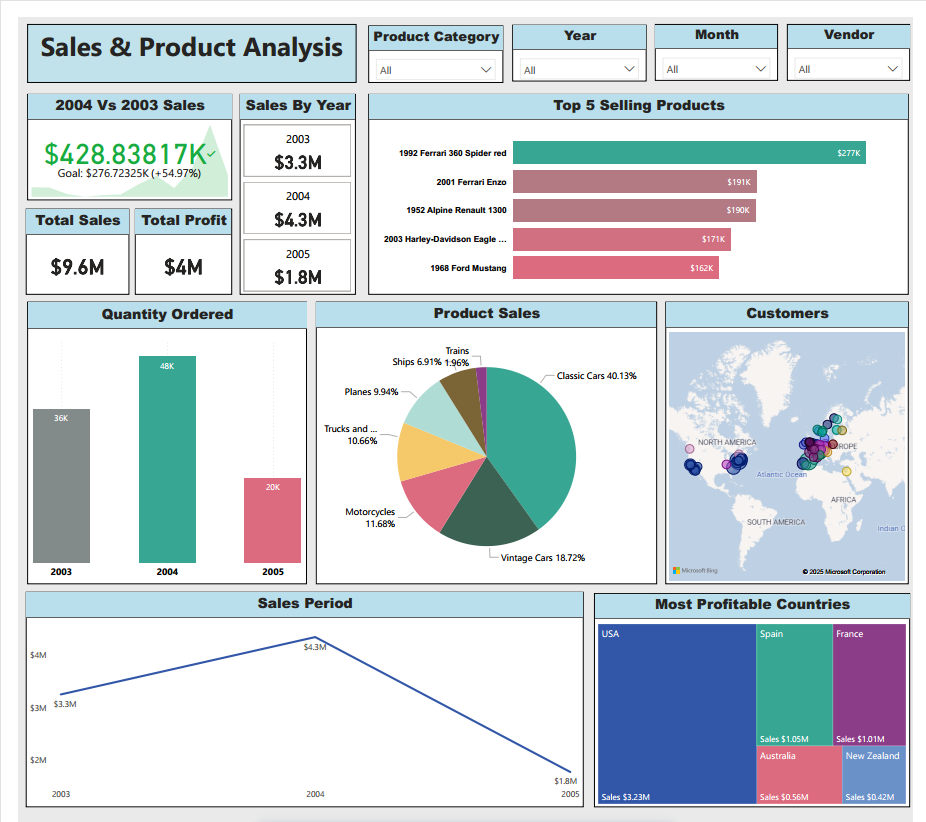

The dashboard page shown, as its layout file describes it:
{"tool":"powerbi","page":{"name":"Page 1","canvas":[1280,1150],"ordinal":0},"visuals":[{"type":"pieChart","title":"Product Sales","fields":{"Category":["product_lines.productLine"],"Y":["Sum(oder_detail.sales)"]},"box":[425.7,405.7,488.6,404.3],"z":0},{"type":"slicer","title":"Month","fields":{"Values":["order.Order_Month"]},"box":[911.4,8.6,175.7,81.4],"z":1000},{"type":"slicer","title":"Year","fields":{"Values":["order.order_year"]},"box":[707.1,10,191.4,81.4],"z":2000},{"type":"kpi","title":"2004 Vs 2003 Sales","fields":{"Goal":["order.sales_2003"],"TrendLine":["order.Order_Month"],"Indicator":["order.sales_2004"]},"box":[12.9,108.6,292.9,152.9],"z":3000},{"type":"map","title":"Customers","fields":{"Size":["CountNonNull(customers.customerNumber)"],"Category":["customers.city"],"Series":["customers.country"]},"box":[925.7,405.7,348.6,404.3],"z":4000},{"type":"card","title":"Total Profit","fields":{"Values":["Sum(oder_detail.profit)"]},"box":[167.1,272.9,138.6,122.9],"z":5000},{"type":"slicer","title":"Product Category","fields":{"Values":["products.productLine"]},"box":[501.4,11.4,192.9,81.4],"z":6000},{"type":"columnChart","title":"Quantity Ordered","fields":{"Category":["order.order_year"],"Y":["Sum(oder_detail.quantityOrdered)"]},"box":[12.9,405.7,400,404.3],"z":7000},{"type":"card","title":"Total Sales","fields":{"Values":["oder_detail.total_sales"]},"box":[11.4,272.9,147.1,122.9],"z":8000},{"type":"clusteredBarChart","title":"Top 5 Selling Products","fields":{"Category":["products.productName"],"Y":["Sum(oder_detail.sales)"]},"box":[501.4,108.6,772.9,287.1],"z":9000},{"type":"textbox","box":[12.5,8.8,471.2,83.8],"z":10000},{"type":"cardVisual","title":"Sales By Year","fields":{"Data":["order.sales_2003","order.sales_2004","order.sales_2005"]},"box":[317.1,108.6,165.7,287.1],"z":11000},{"type":"lineChart","title":"Sales Period","fields":{"Y":["Sum(oder_detail.sales)"],"Category":["order.orderDate.Variation.Date Hierarchy.Year","order.orderDate.Variation.Date Hierarchy.Quarter","order.orderDate.Variation.Date Hierarchy.Month","order.orderDate.Variation.Date Hierarchy.Day"]},"box":[11.4,821.4,797.1,307.1],"z":12000},{"type":"treemap","title":"Most Profitable Countries","fields":{"Group":["customers.country"],"Values":["Sum(oder_detail.sales)","CountNonNull(customers.country_city)"]},"box":[824.3,822.9,451.4,305.7],"z":13000},{"type":"slicer","title":"Vendor","fields":{"Values":["products.productVendor"]},"box":[1100,8.6,175.7,81.4],"z":14000}]}

Visuals, with their boxes in screenshot pixels (x1, y1, x2, y2), scaled from the page's 1280x1150 canvas onto the 926x822 screenshot:
"Product Sales" pieChart: box(308, 290, 661, 579)
"Month" slicer: box(659, 6, 786, 64)
"Year" slicer: box(512, 7, 650, 65)
"2004 Vs 2003 Sales" kpi: box(9, 78, 221, 187)
"Customers" map: box(670, 290, 922, 579)
"Total Profit" card: box(121, 195, 221, 283)
"Product Category" slicer: box(363, 8, 502, 66)
"Quantity Ordered" columnChart: box(9, 290, 299, 579)
"Total Sales" card: box(8, 195, 115, 283)
"Top 5 Selling Products" clusteredBarChart: box(363, 78, 922, 283)
textbox: box(9, 6, 350, 66)
"Sales By Year" cardVisual: box(229, 78, 349, 283)
"Sales Period" lineChart: box(8, 587, 585, 807)
"Most Profitable Countries" treemap: box(596, 588, 923, 807)
"Vendor" slicer: box(796, 6, 923, 64)
